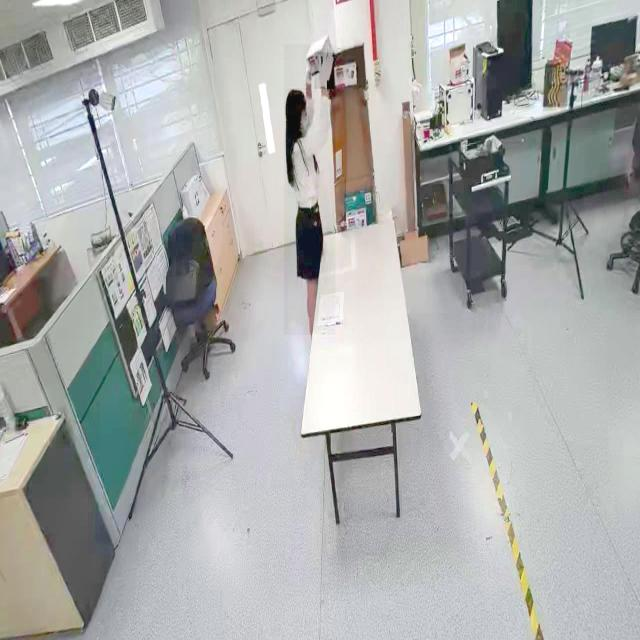hand_glove: (314, 52, 334, 90)
head_nohelmet: (286, 88, 308, 106)
person: (284, 44, 336, 336)
